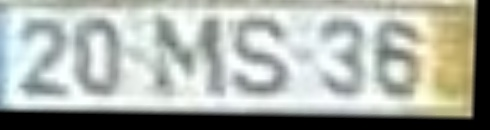0: (71, 15, 123, 104)
2: (14, 15, 73, 101)
3: (317, 15, 372, 106)
6: (370, 16, 425, 105)
M: (151, 14, 229, 105)
S: (228, 15, 292, 106)
